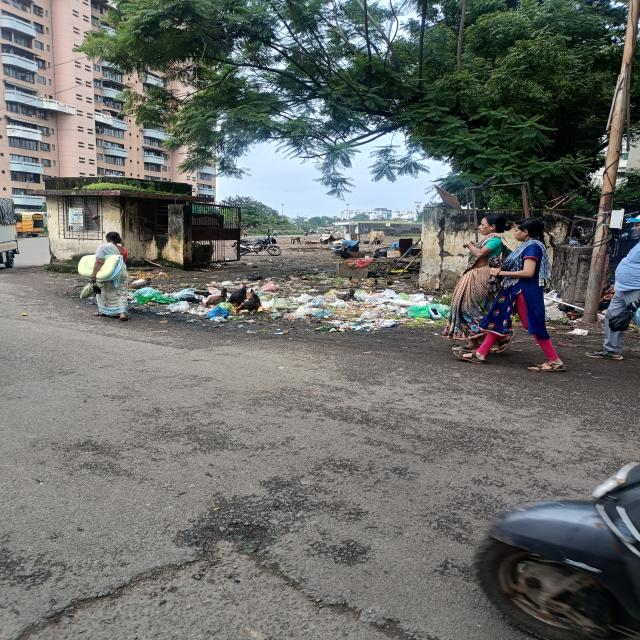garbage: (139, 284, 452, 326), (322, 259, 400, 284)
